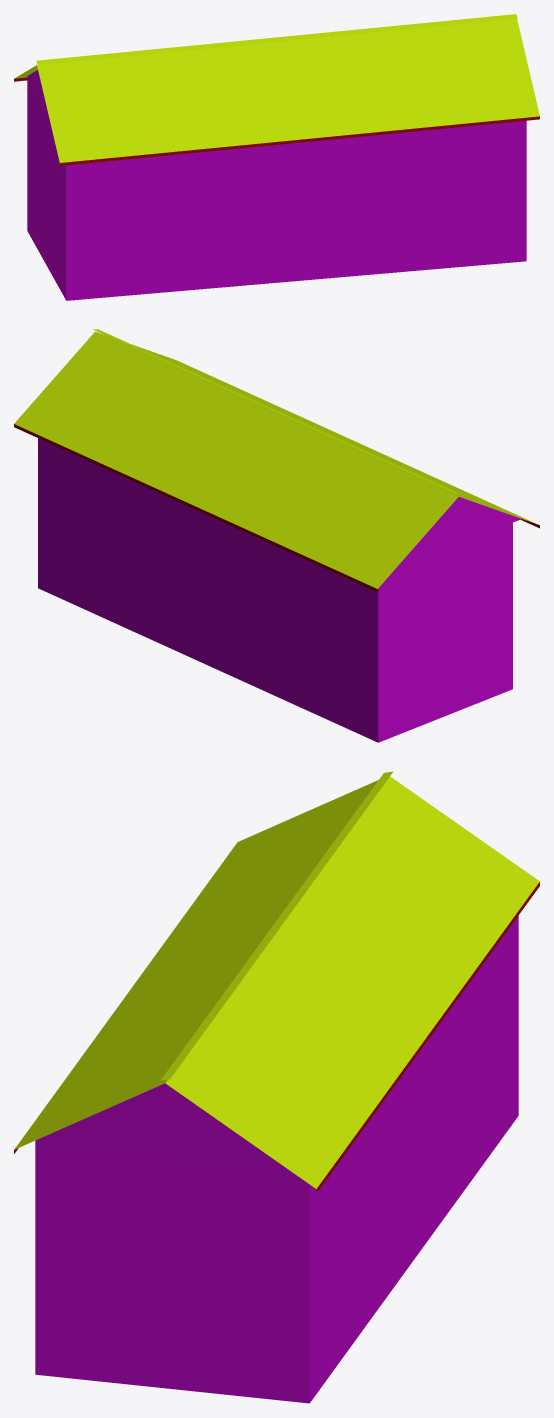
The model's file is sag_12.glb.
3 views of the same model, one above another, from view 1: azimuth 30°, elevation 25°; view 2: azimuth 150°, elevation 25°; view 3: azimuth 270°, elevation 25° (orthographic). The views are drawn at different scales.
Visible parts, largest first — view 1: sag_12; view 2: sag_12; view 3: sag_12.
Boxes of the visible parts, left/top/right/bottom form: sag_12: left=14, top=14, right=539, bottom=300; sag_12: left=14, top=329, right=539, bottom=742; sag_12: left=14, top=771, right=539, bottom=1403.
Size of the model in its own units: 19.32 by 8.32 by 12.37.
